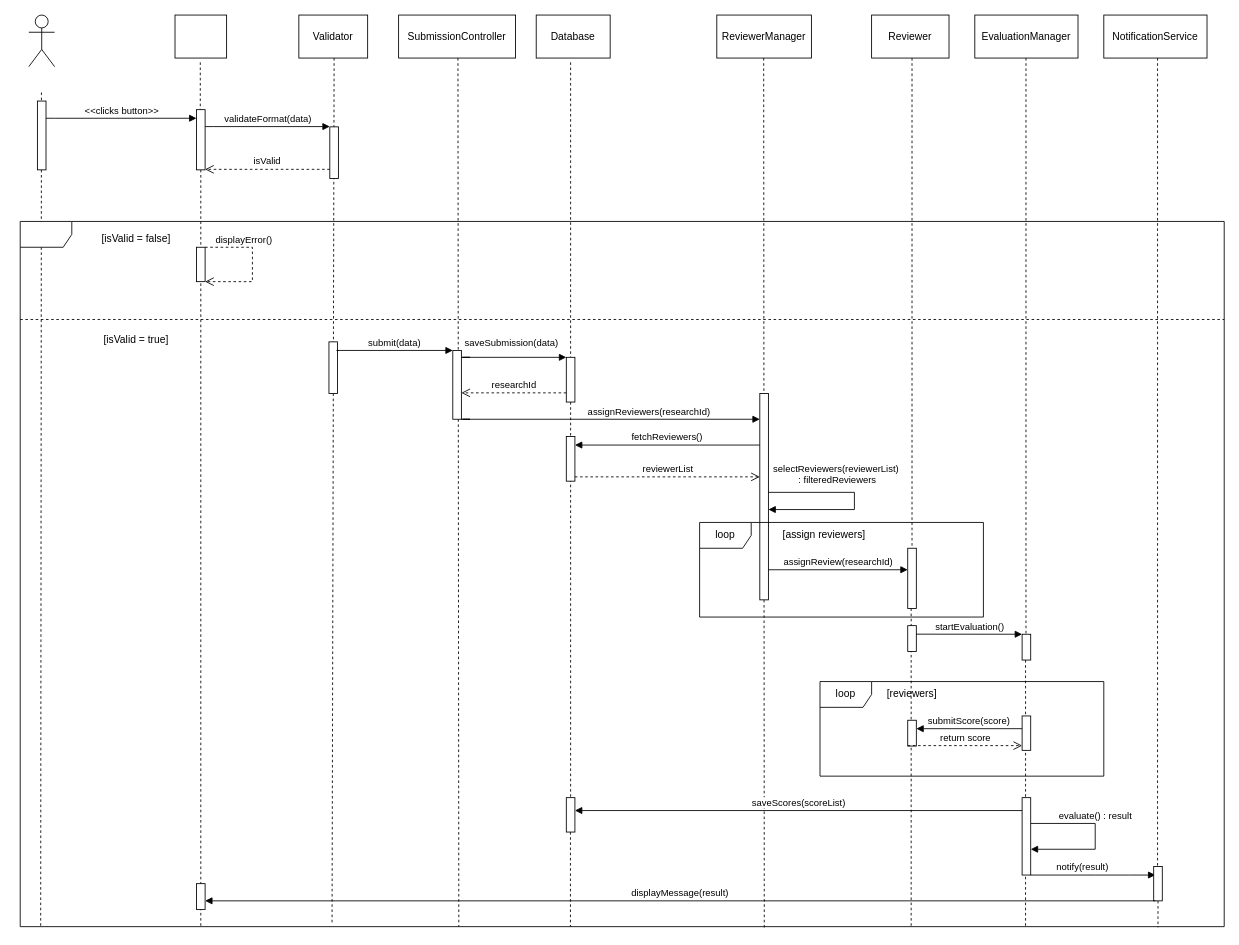
Some shapes in this 1239 by 945 pixel diagram are drawn without their labels. The box of each missing label's shape, as (x1, y1, x2, y2) in pixels:
Researcher: (28, 14, 55, 67)
UI: (174, 14, 227, 58)
